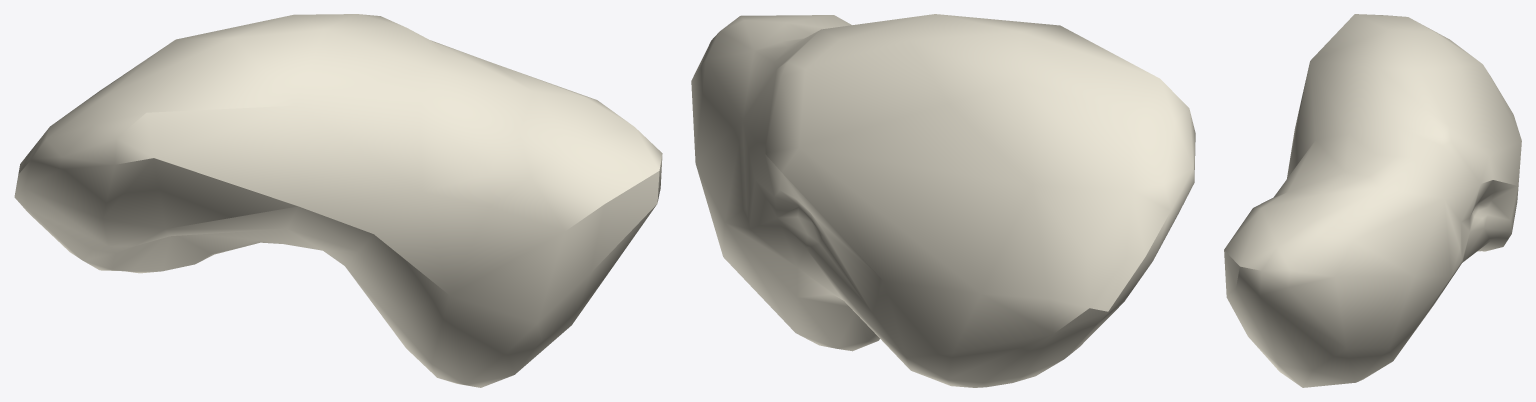
File: fma24436_fj3278.glb
The picture shows the model from 3 angles, left to right: view 1: azimuth 30°, elevation 25°; view 2: azimuth 150°, elevation 25°; view 3: azimuth 270°, elevation 25°; orthographic projection. The views are drawn at different scales.
Parts seen in each view (by area): view 1: FMA24436_FJ3278; view 2: FMA24436_FJ3278; view 3: FMA24436_FJ3278.
Boxes of the visible parts, bbox=[...] form: FMA24436_FJ3278: bbox=[14, 14, 662, 387]; FMA24436_FJ3278: bbox=[691, 14, 1195, 387]; FMA24436_FJ3278: bbox=[1224, 14, 1521, 387].
Bounding box in the file's own units: 0.0235 × 0.0155 × 0.0149.
